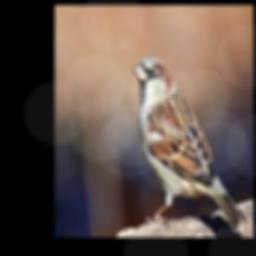Sparrow: (133, 56, 240, 233)
